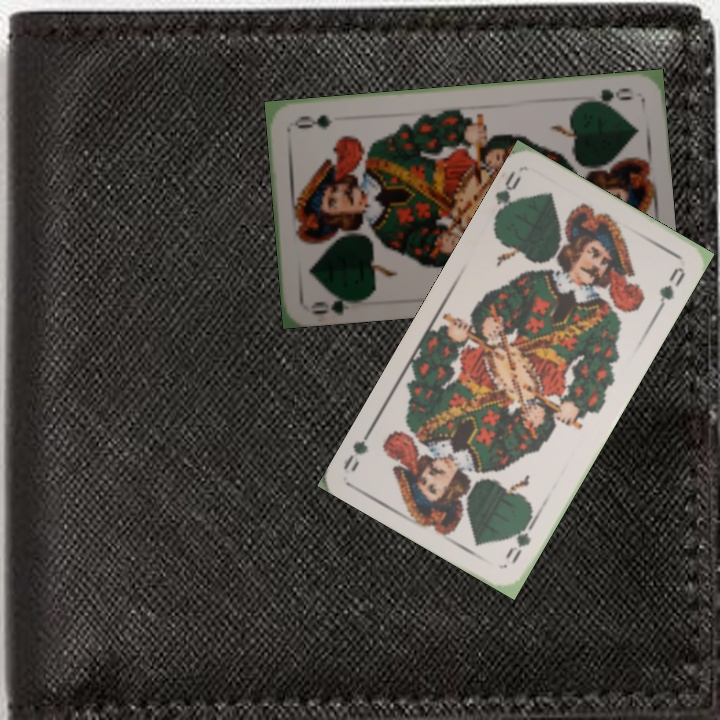GO: (501, 510, 540, 567), (489, 166, 524, 224), (307, 289, 365, 317), (580, 83, 636, 108)
